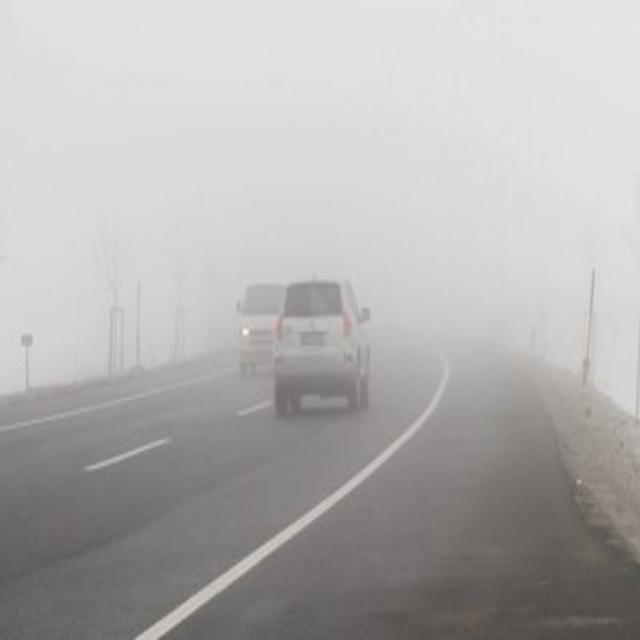car: (271, 281, 371, 420), (235, 283, 283, 376)
